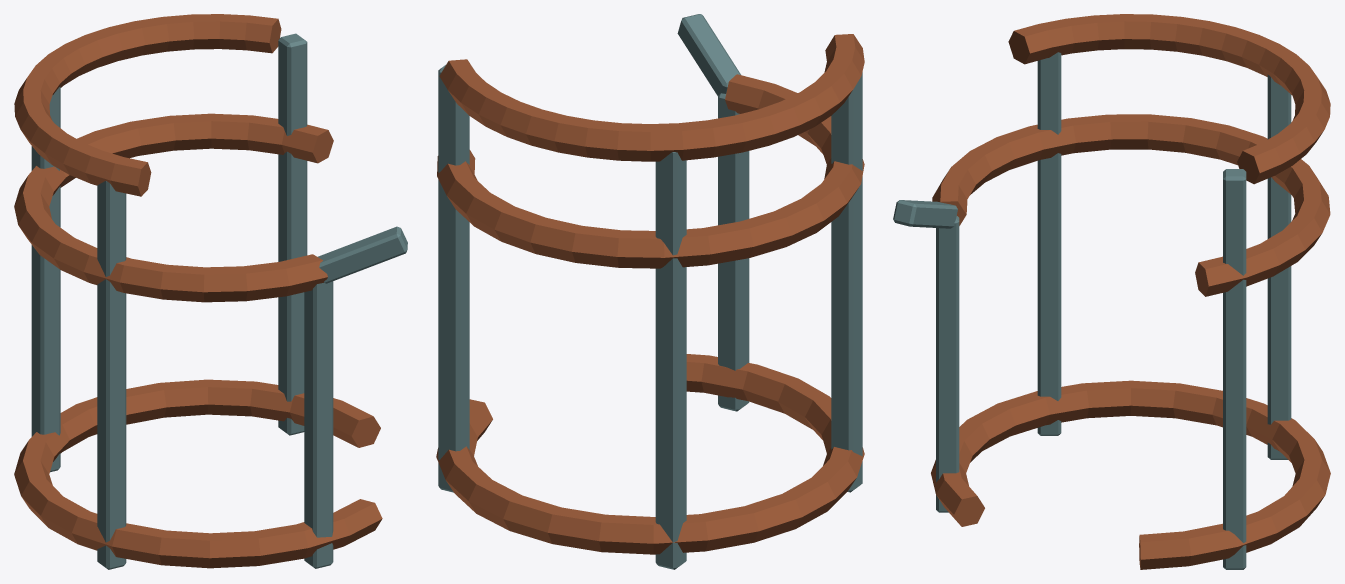
Rendered from Core_Broken_Cage.glb.
3 renders of one model, left to right at view 1: azimuth 30°, elevation 25°; view 2: azimuth 150°, elevation 25°; view 3: azimuth 270°, elevation 25°, orthographic. The views are drawn at different scales.
Parts seen in each view (by area): view 1: Core_Broken_Cage; view 2: Core_Broken_Cage; view 3: Core_Broken_Cage.
Boxes of the visible parts, left/top/right/bottom form: Core_Broken_Cage: left=14, top=14, right=407, bottom=569; Core_Broken_Cage: left=436, top=14, right=864, bottom=569; Core_Broken_Cage: left=893, top=14, right=1330, bottom=569.
Size of the model in its own units: 2.72 by 3.05 by 2.98.
